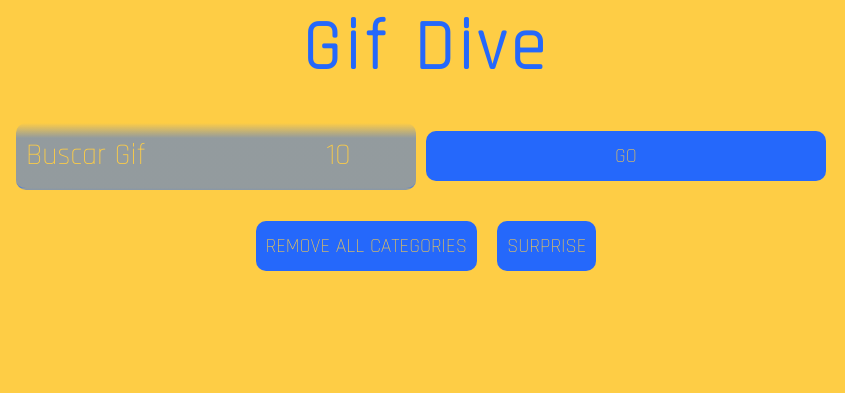
Test: GifDivePage › behavior › should remove all categories when REMOVE ALL CATEGORIES is clicked
This screenshot has width=845, height=393.
Type "cats" into the field with placeholder "Buscar Gif". click: [166, 156]
box: [16,122,316,190]
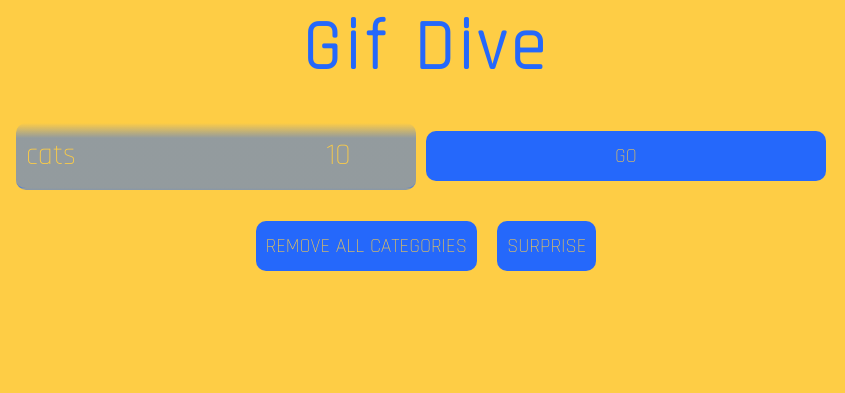
Click the button with aria-label "Search GIFs by category". click: [626, 156]
box: [426,131,826,181]
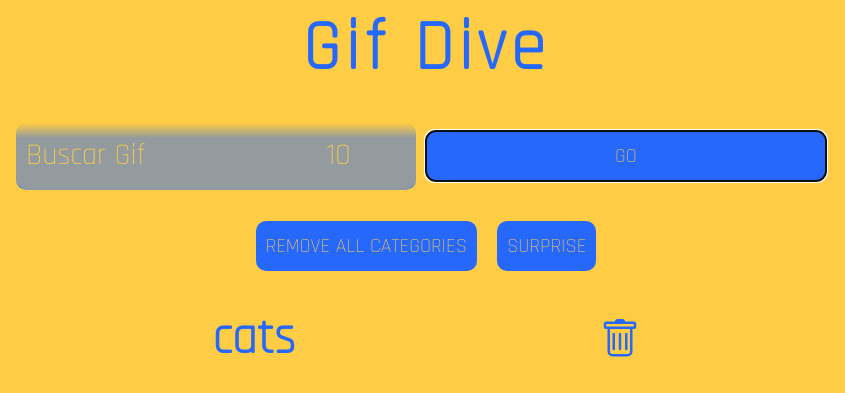
Now the heading "cats" is shown, box [212,301,295,376]
Click the button "REMOVE ALL CATEGORIES". click: [366, 246]
box: [256,221,477,271]
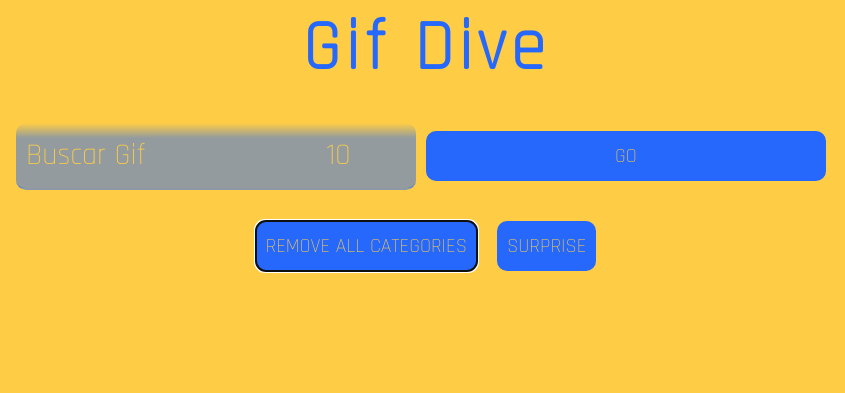
Now the heading "cats" is gone
